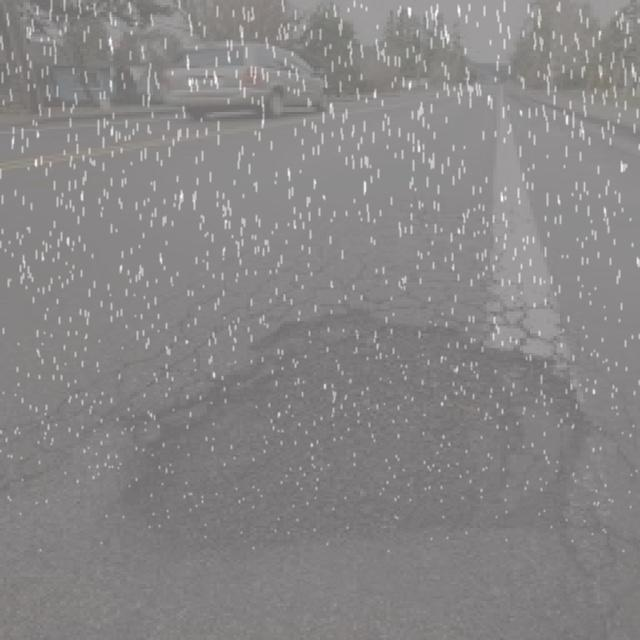Pothole: (104, 294, 608, 553)
